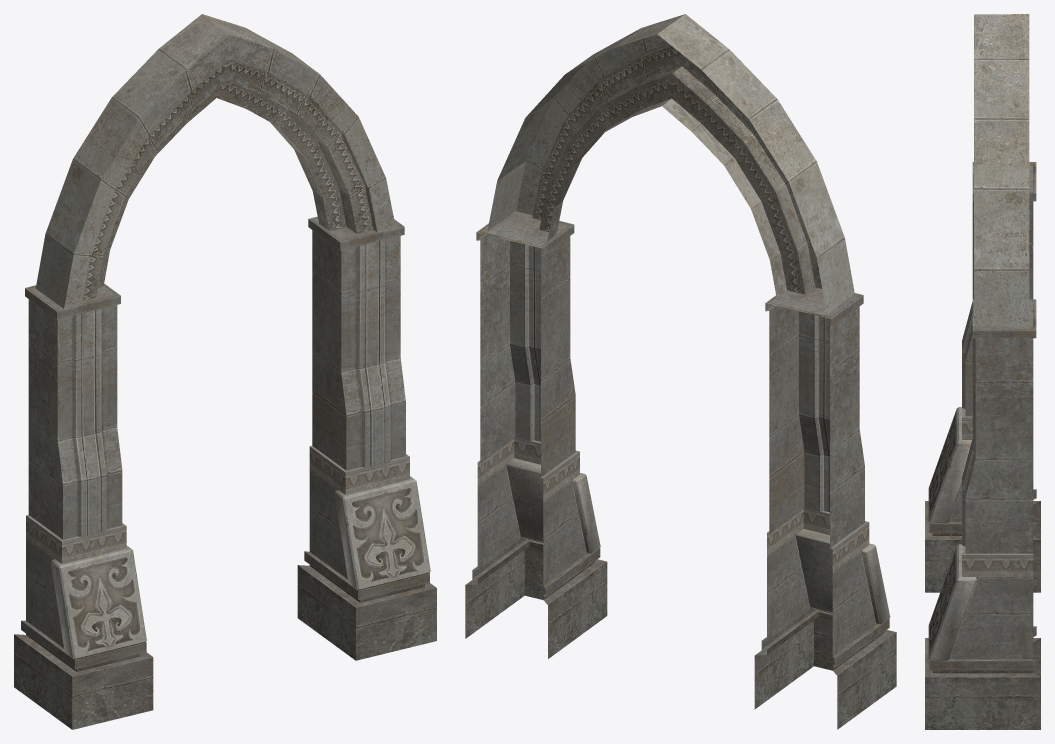
File: bg_lut_lucastle_housedoor03_sm_sup.FBX
3 views of the same model, side by side, from view 1: azimuth 30°, elevation 25°; view 2: azimuth 150°, elevation 25°; view 3: azimuth 270°, elevation 25° (orthographic). The views are drawn at different scales.
Visible parts, largest first — view 1: bg_lut_lucastle_housedoor03_sm_sup; view 2: bg_lut_lucastle_housedoor03_sm_sup; view 3: bg_lut_lucastle_housedoor03_sm_sup.
Boxes of the visible parts, box(x1,y1,x2,y2) form: bg_lut_lucastle_housedoor03_sm_sup: box(14, 14, 436, 729); bg_lut_lucastle_housedoor03_sm_sup: box(465, 14, 896, 729); bg_lut_lucastle_housedoor03_sm_sup: box(925, 14, 1040, 729).
Bounding box in the file's own units: 223 × 370 × 61.77.
